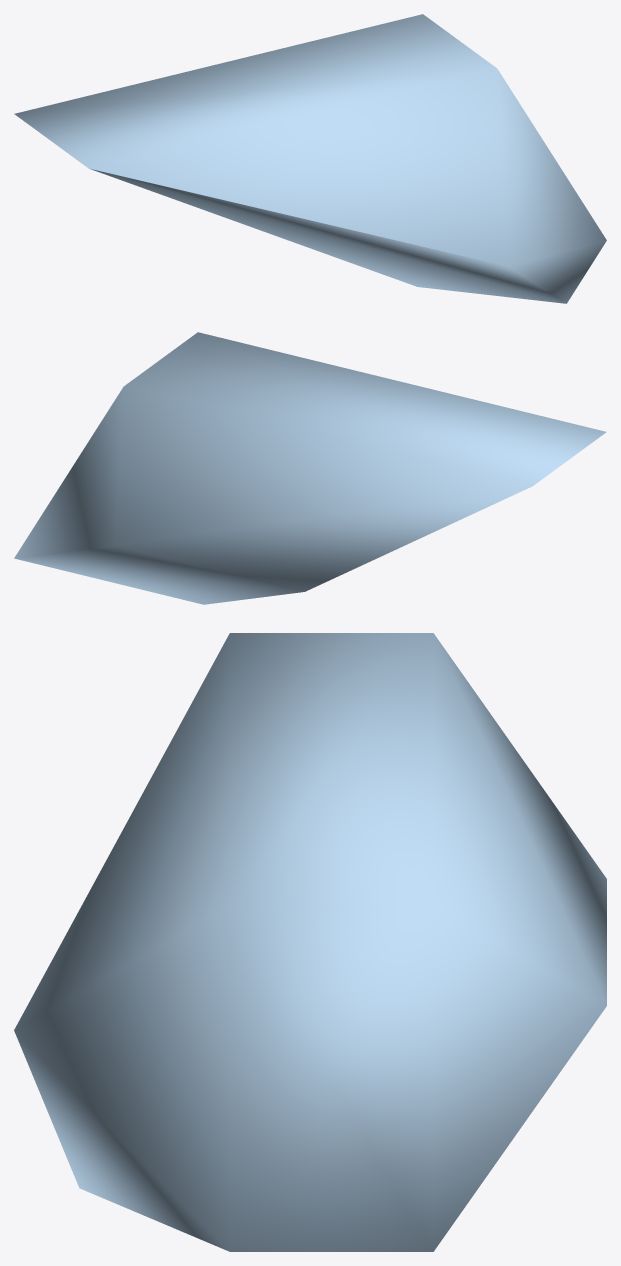
The model's file is quartz-short.glb.
3 views of the same model, one above another, from view 1: azimuth 30°, elevation 25°; view 2: azimuth 150°, elevation 25°; view 3: azimuth 270°, elevation 25° (orthographic). The views are drawn at different scales.
Parts seen in each view (by area): view 1: quartz-short; view 2: quartz-short; view 3: quartz-short.
Part boxes in pixels (bbox=[...]): quartz-short: bbox=[14, 14, 606, 303]; quartz-short: bbox=[14, 332, 606, 604]; quartz-short: bbox=[14, 633, 606, 1251].
Bounding box in the file's own units: 5.46 × 2 × 3.95.
